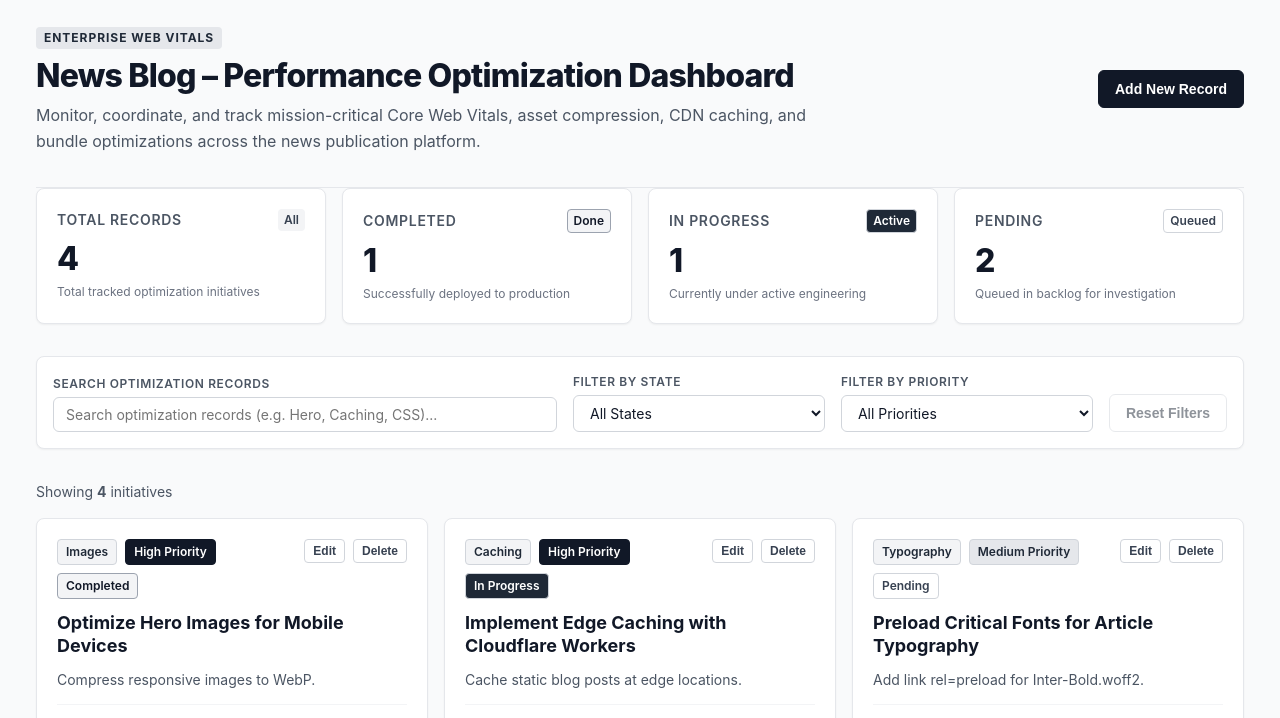
C. Search and Filtering Requirements › resets the list when search query is cleared and filters are reset to All
The width and height of the screenshot is (1280, 718).
Type "Fonts" into the field labelled "Search optimization records" at [305, 414], box [53,397,557,432]
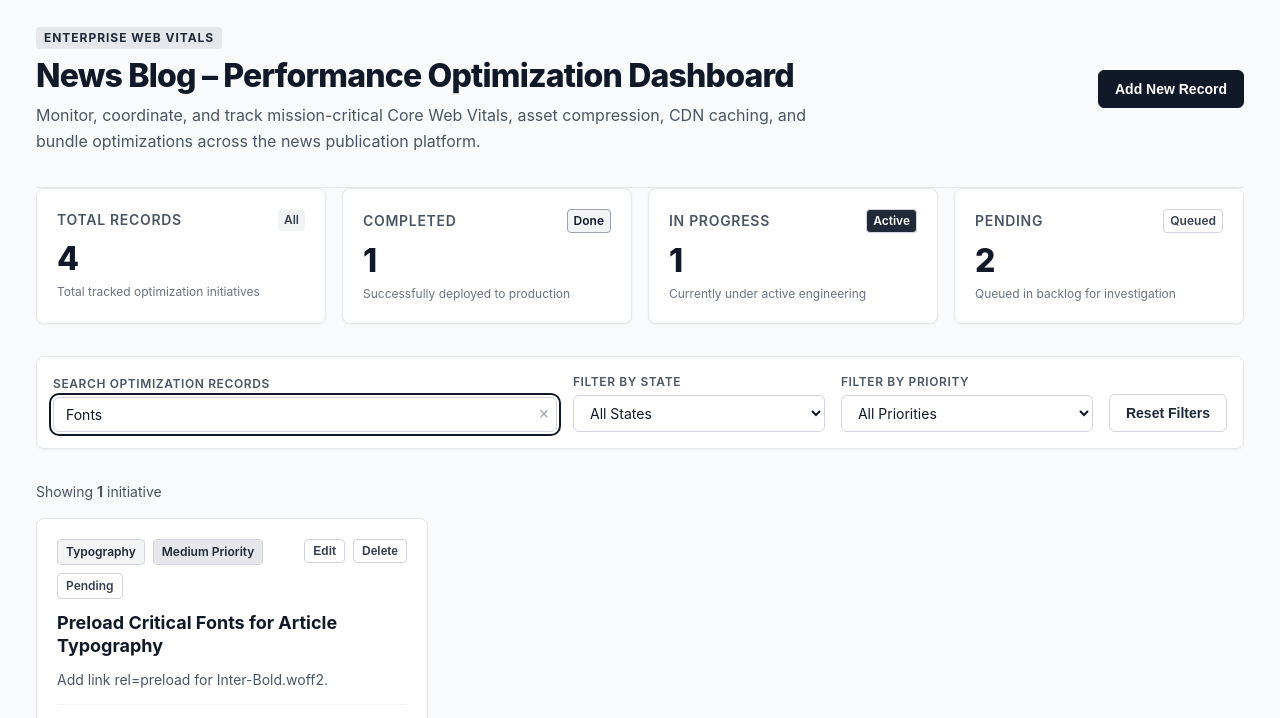
Expected: the heading "Preload Critical Fonts for Article Typography" is shown, [57,612,337,656]
Now the heading "Optimize Hero Images for Mobile Devices" is gone
Note: Clear search
Clear the field labelled "Search optimization records" at [305, 414], box [53,397,557,432]
(page scrolled)
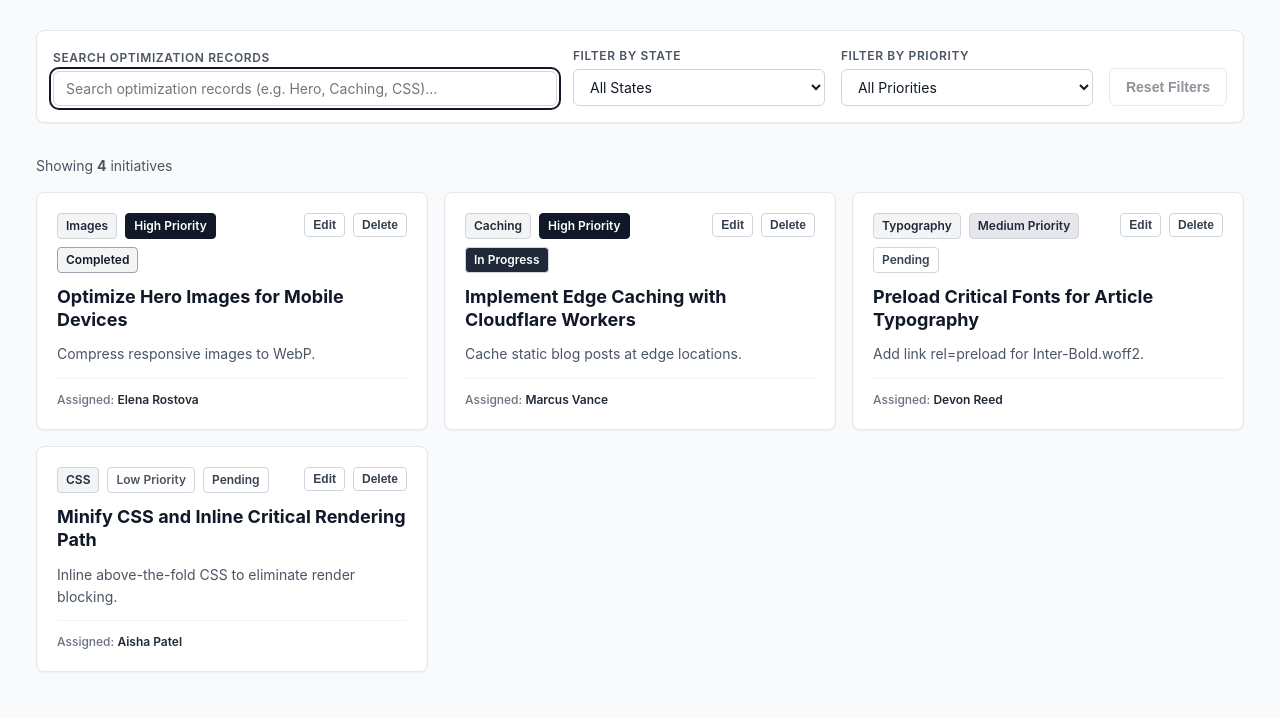
Now the heading "Optimize Hero Images for Mobile Devices" is shown, box [57,286,344,330]
Now the heading "Implement Edge Caching with Cloudflare Workers" is shown, box [465,286,727,330]
Now the heading "Minify CSS and Inline Critical Rendering Path" is shown, box [57,505,407,552]
